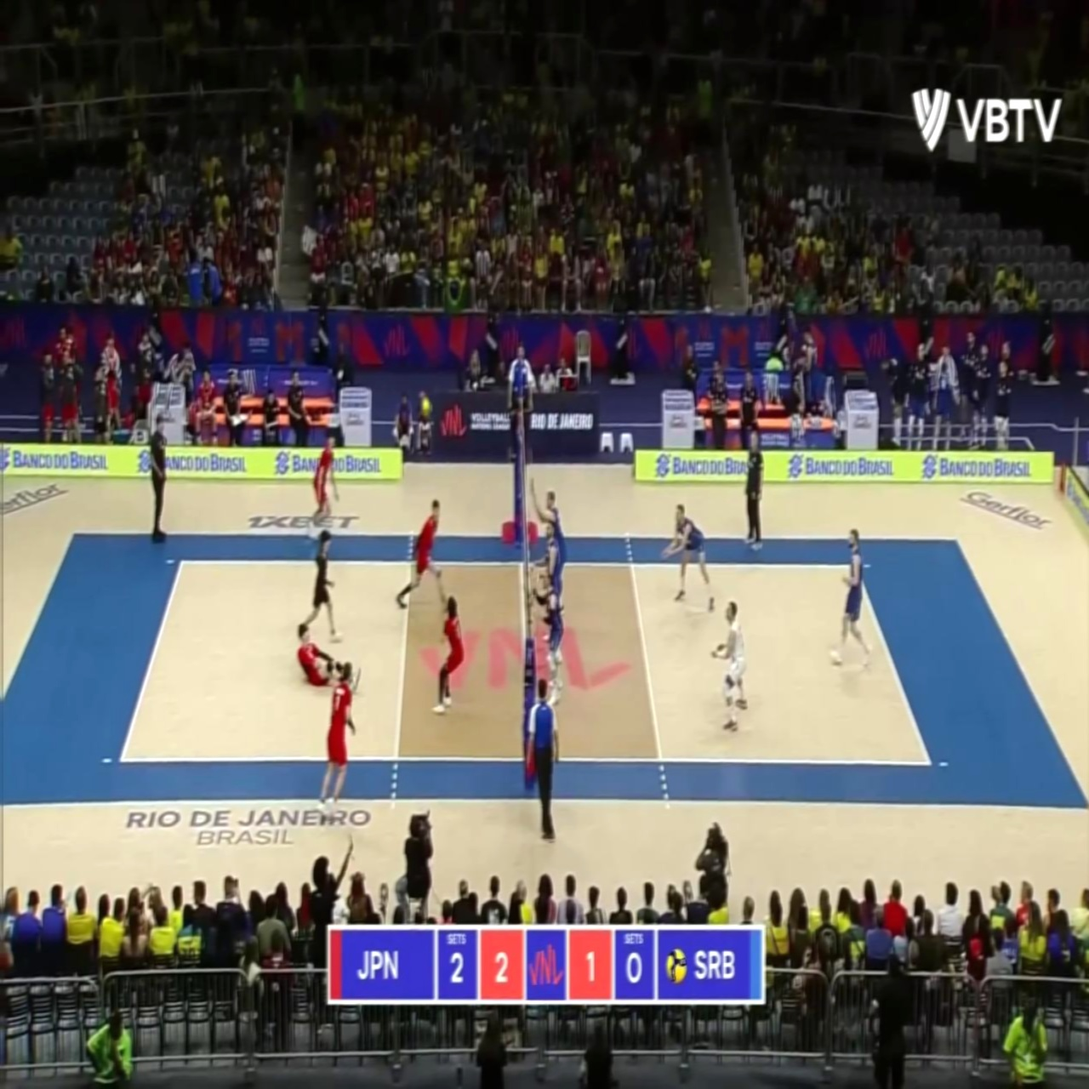ball: (421, 396, 431, 416)
